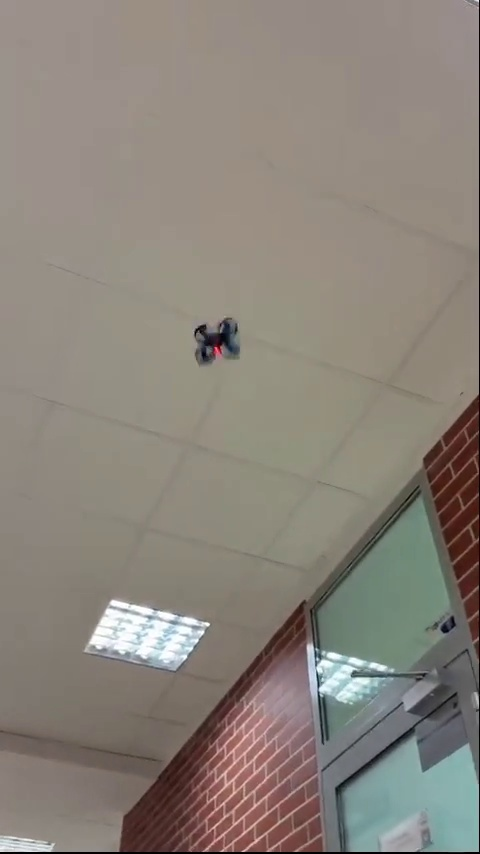drone: (194, 318, 239, 366)
